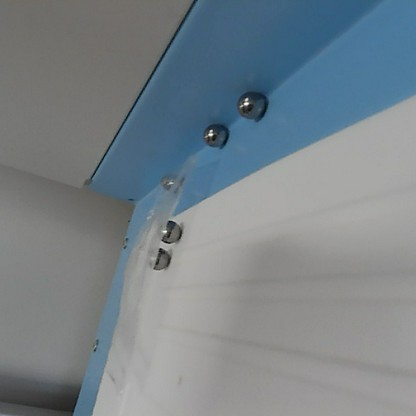ironball: (233, 86, 272, 123), (154, 216, 184, 244), (200, 120, 228, 149), (140, 243, 169, 270), (163, 172, 184, 192), (155, 170, 169, 189)
